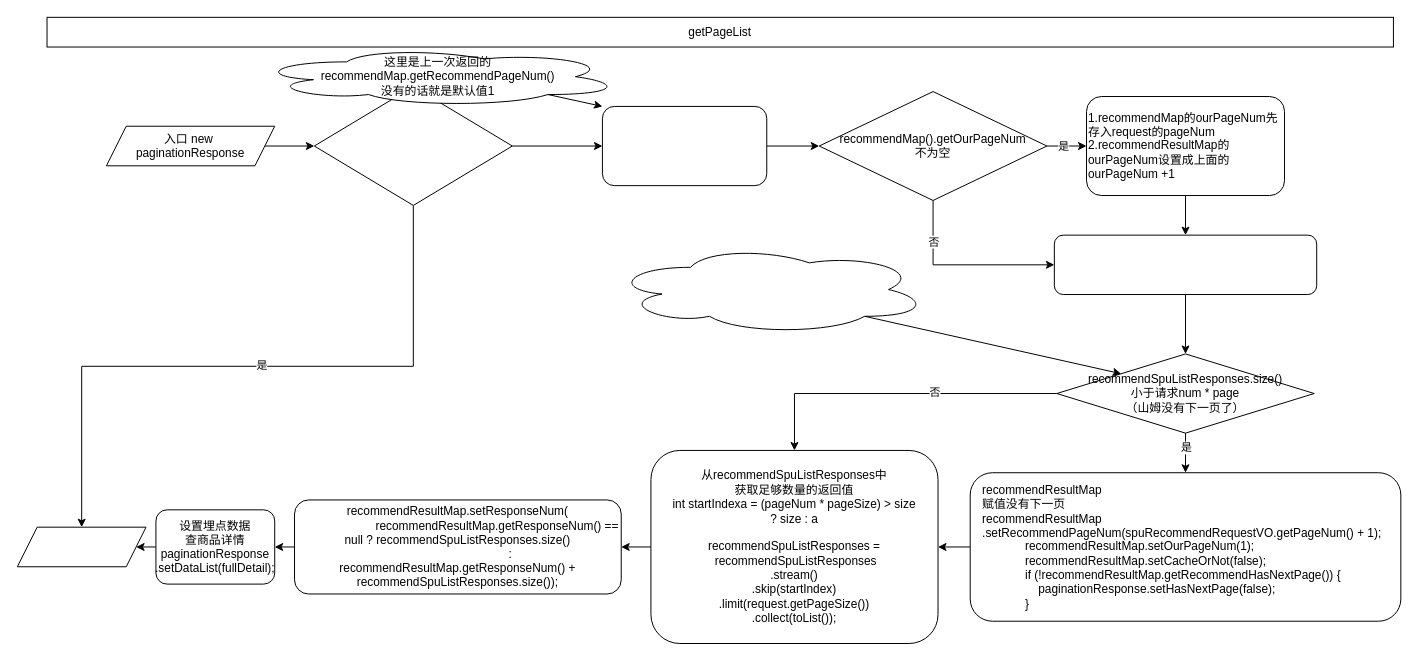
Image size: 1419x661. Some labels were removed from this diagram. Each missing label, with the centre of its shape:
"paginationResponse.setHasNextPage(true); 这里就赋个默认值 true" belongs at (x=1185, y=264).
"recommendResultMap .setRecommendPageNum (spuRecommendRequestVO .getPageNum());" belongs at (x=684, y=145).
"recommendSpuListResponses" belongs at (x=769, y=289).
"recommendSpuListResponses 是否为空" belongs at (x=412, y=145).
"结束" belongs at (x=81, y=546).
